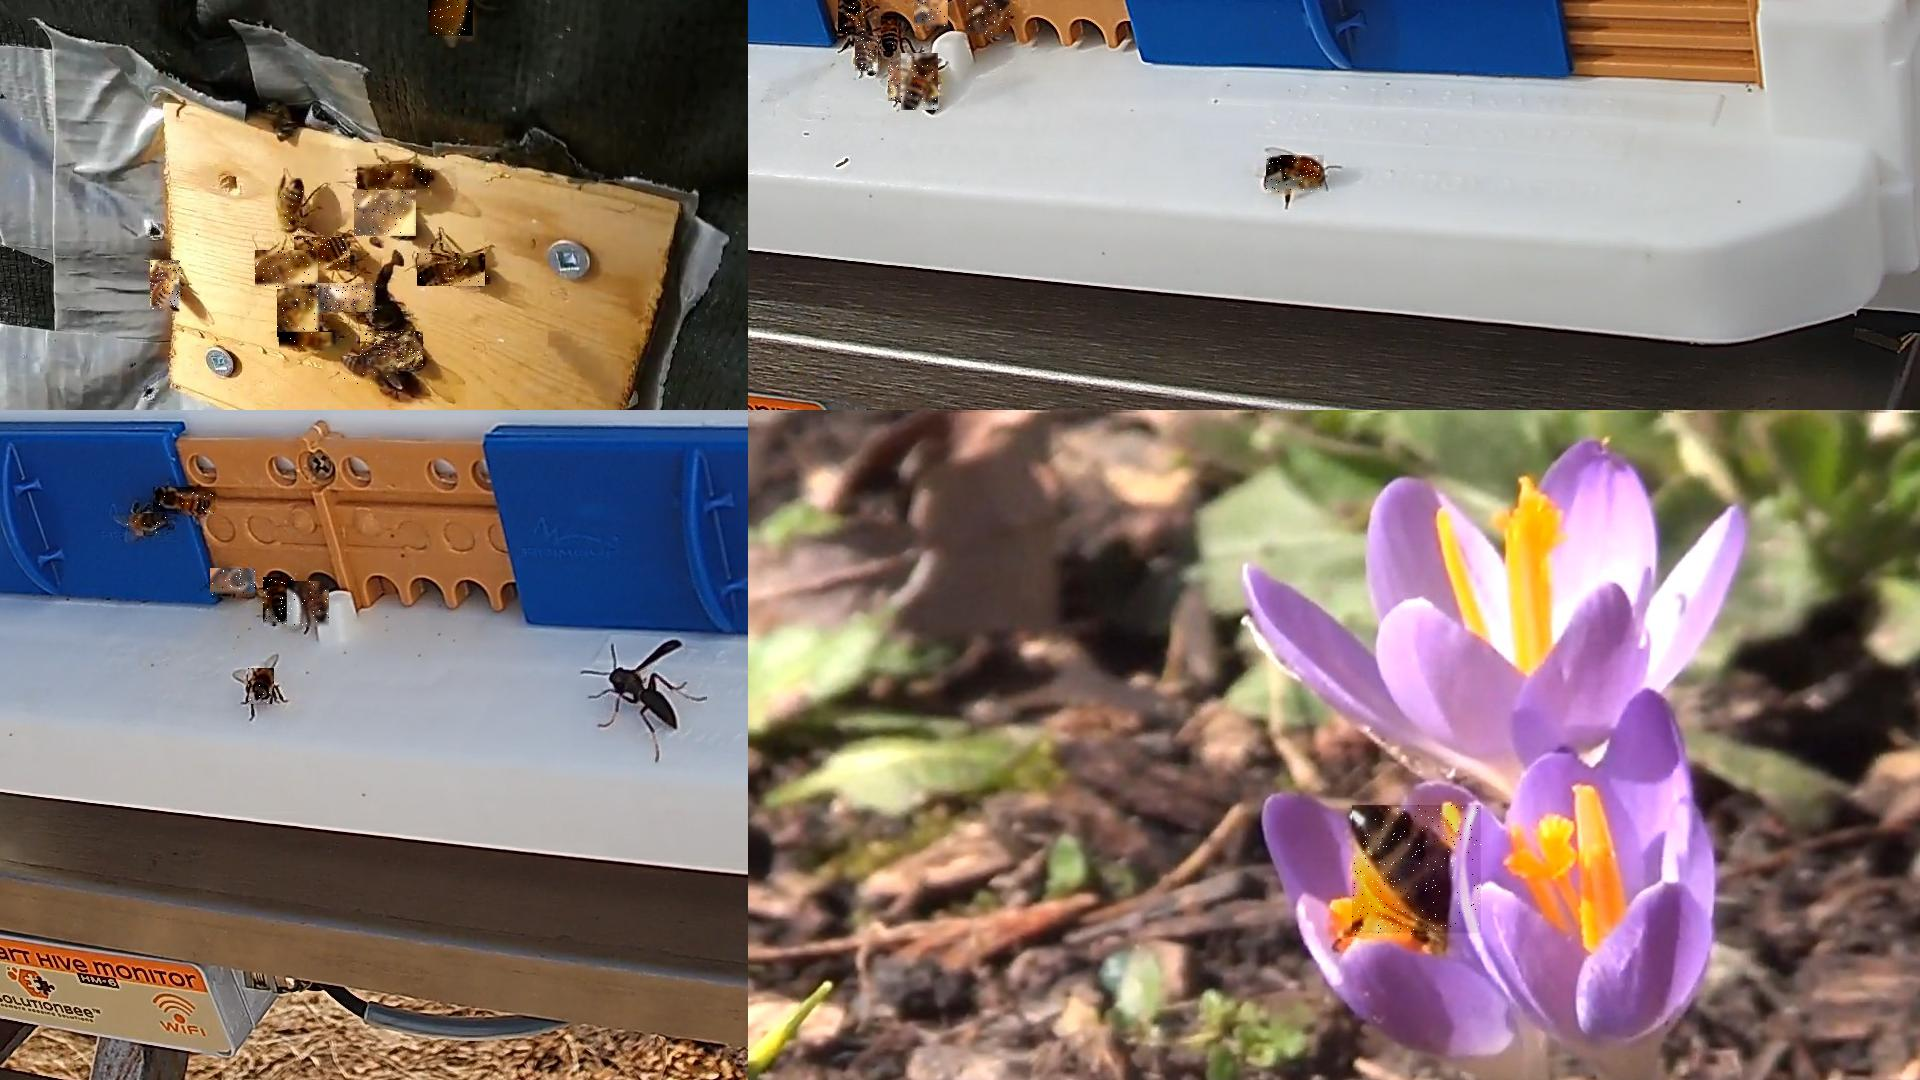bee: (1352, 806, 1482, 937), (354, 190, 417, 237), (418, 253, 490, 287), (255, 251, 319, 289), (360, 331, 424, 369), (278, 289, 323, 338), (287, 582, 330, 630), (295, 237, 355, 271), (358, 164, 434, 190), (317, 283, 379, 313), (428, 0, 475, 38), (154, 488, 220, 515), (341, 357, 399, 386), (151, 261, 184, 311), (263, 578, 293, 627), (278, 178, 304, 232), (210, 569, 256, 597), (838, 0, 868, 36), (248, 669, 275, 709), (280, 333, 336, 351), (125, 514, 169, 536), (888, 60, 911, 102), (855, 37, 879, 76), (881, 17, 898, 56)
pollenbee: (1266, 156, 1325, 194), (901, 53, 939, 111), (966, 0, 1011, 38), (914, 0, 950, 29)
